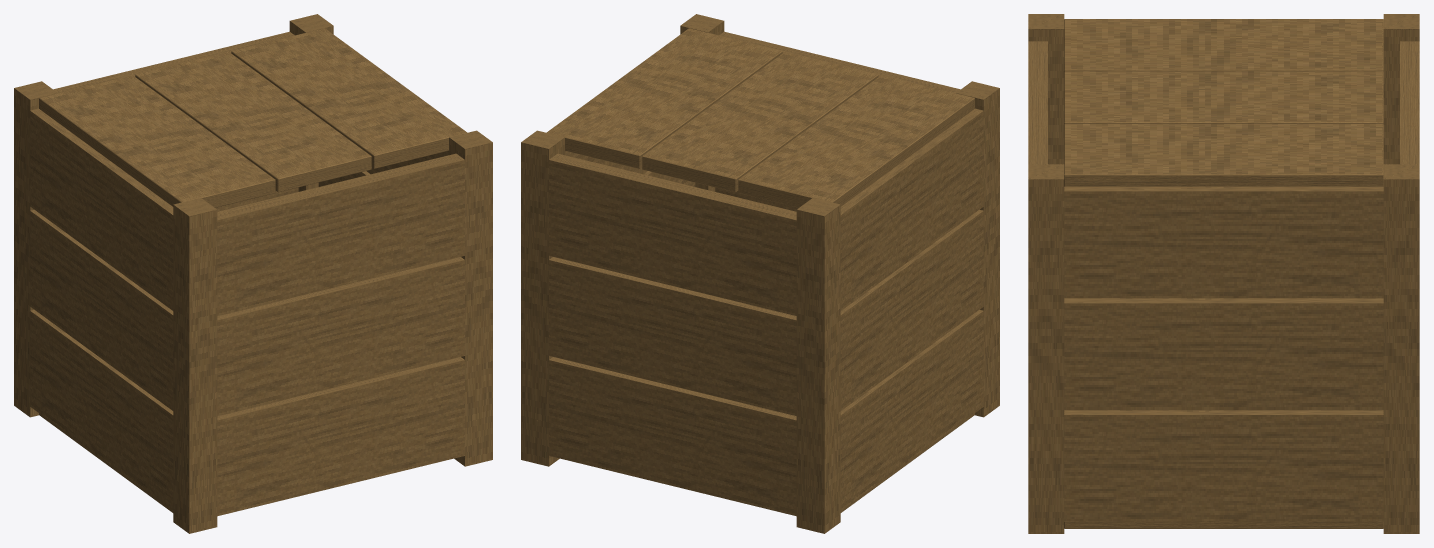
Rendered from crate.glb.
The picture shows the model from 3 angles, left to right: view 1: azimuth 30°, elevation 25°; view 2: azimuth 150°, elevation 25°; view 3: azimuth 270°, elevation 25°; orthographic projection. The views are drawn at different scales.
Parts seen in each view (by area): view 1: core_crate; view 2: core_crate; view 3: core_crate.
Boxes of the visible parts, x1,y1,x2,y2 form: core_crate: (14, 14, 492, 533); core_crate: (521, 14, 999, 533); core_crate: (1028, 14, 1419, 533).
Size of the model in its own units: 0.6 by 0.6 by 0.6.
1 material, 1 textured.
